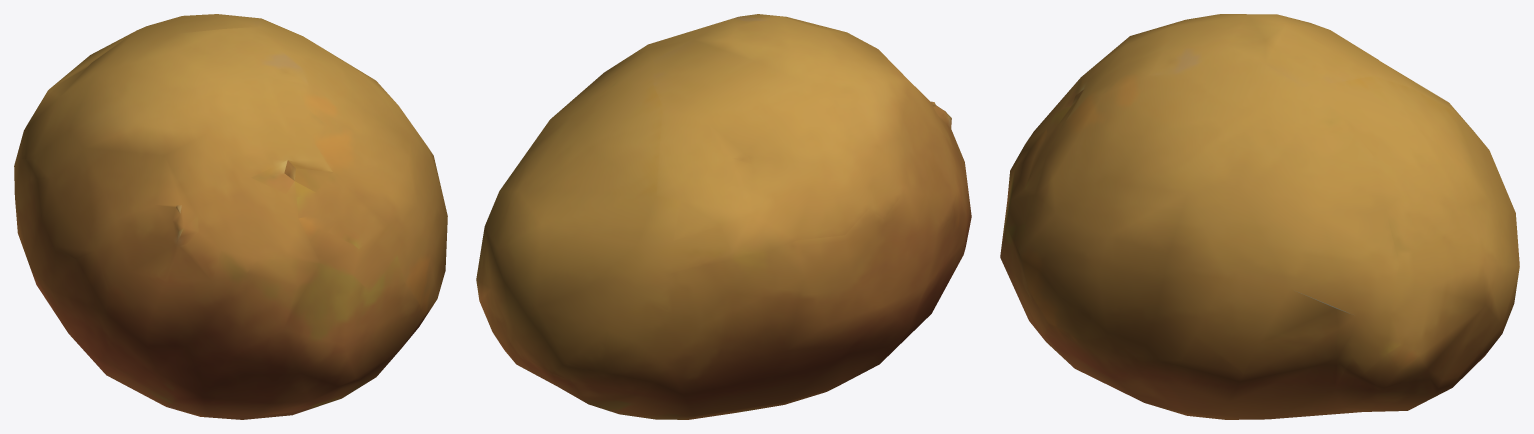
File: SM_Food_SM_Potato.fbx
3 views of the same model, side by side, from view 1: azimuth 30°, elevation 25°; view 2: azimuth 150°, elevation 25°; view 3: azimuth 270°, elevation 25° (orthographic).
Visible parts, largest first — view 1: SM_Food_SM_Potato_LOD0; view 2: SM_Food_SM_Potato_LOD0; view 3: SM_Food_SM_Potato_LOD0.
Boxes of the visible parts, <box> form: SM_Food_SM_Potato_LOD0: <box>14,14,447,419</box>; SM_Food_SM_Potato_LOD0: <box>476,14,971,419</box>; SM_Food_SM_Potato_LOD0: <box>1000,14,1519,419</box>.
Bounding box in the file's own units: 10.48 × 12.48 × 9.34.
1 material, 1 textured.
